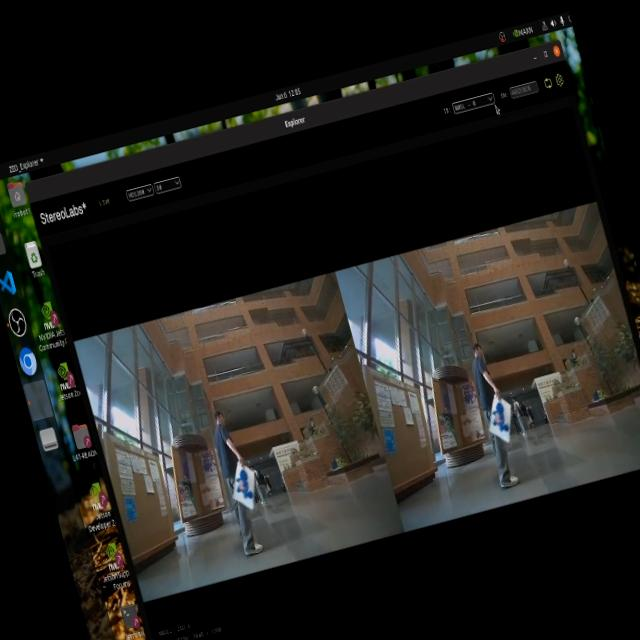blue: (482, 400, 514, 441), (228, 462, 256, 502)
